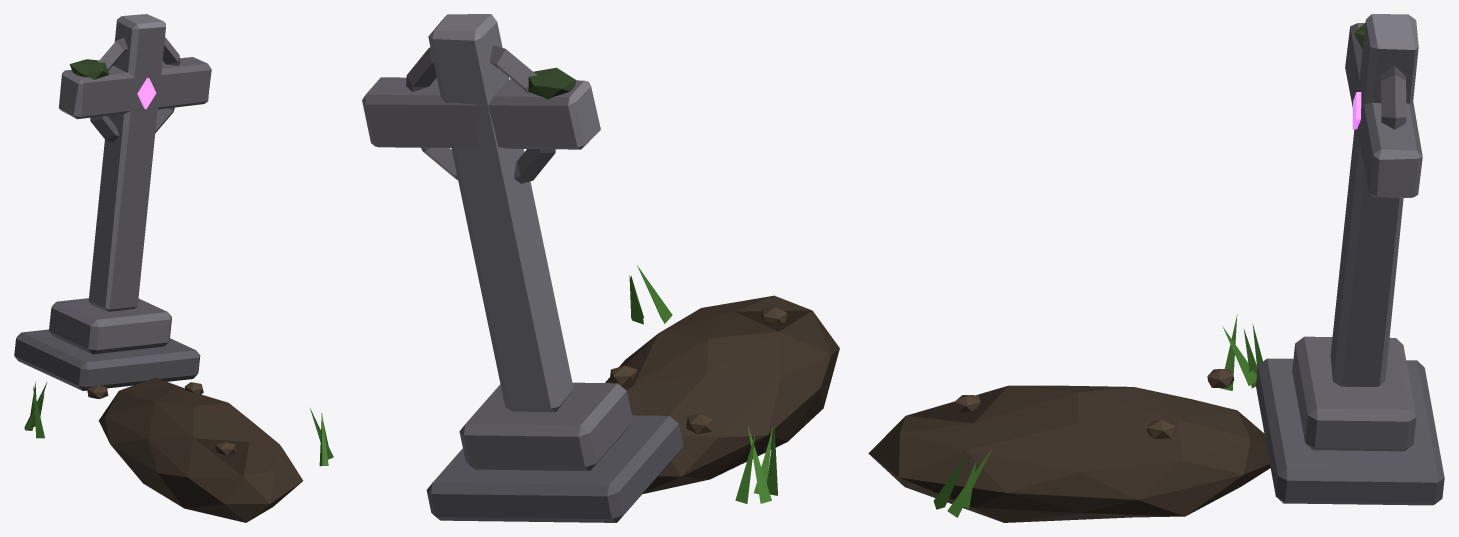
The model's file is grave_2.glb.
3 renders of one model, left to right at view 1: azimuth 30°, elevation 25°; view 2: azimuth 150°, elevation 25°; view 3: azimuth 270°, elevation 25°, orthographic. The views are drawn at different scales.
Parts seen in each view (by area): view 1: Grave2; view 2: Grave2; view 3: Grave2.
Part boxes in pixels (<box>): Grave2: <box>14,14,333,522</box>; Grave2: <box>362,14,839,522</box>; Grave2: <box>868,14,1444,522</box>.
Bounding box in the file's own units: 0.8937 × 1.37 × 1.37.
